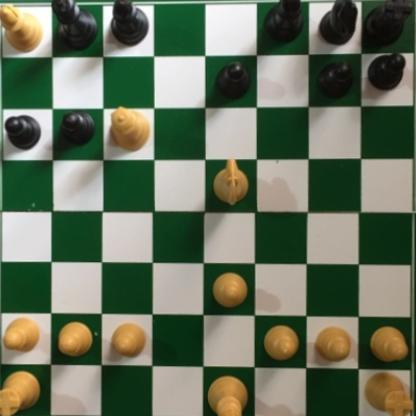black-bishop: (109, 0, 151, 47), (264, 0, 304, 43)
black-king: (51, 0, 99, 51)
black-knight: (319, 0, 359, 48)
black-pawn: (367, 50, 407, 92), (213, 59, 251, 101), (314, 59, 351, 100), (57, 110, 97, 147), (2, 114, 41, 151)
black-rook: (361, 0, 413, 47)
white-bishop: (0, 0, 44, 53)
white-king: (205, 366, 249, 416)
white-knight: (212, 155, 250, 205)
white-pawn: (1, 310, 43, 355), (367, 323, 411, 363), (55, 319, 97, 358), (312, 323, 351, 363), (108, 321, 149, 358), (262, 323, 301, 361), (211, 272, 250, 309)
white-queen: (108, 105, 151, 153)
white-rook: (362, 368, 415, 416), (0, 367, 43, 416)
